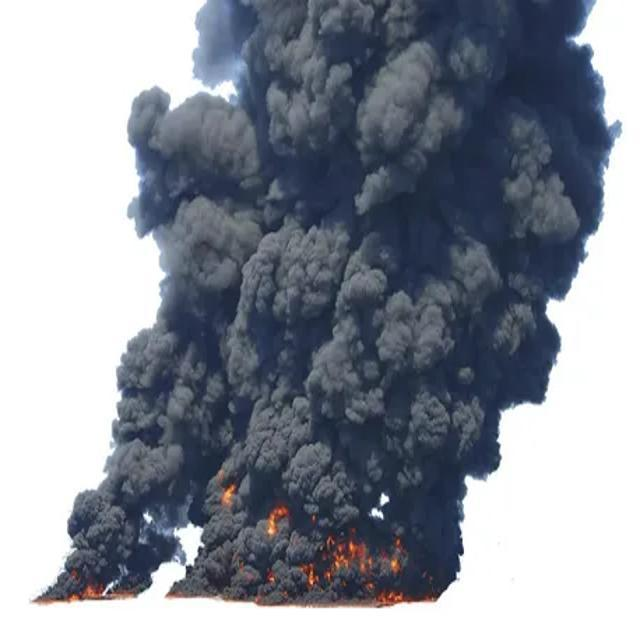Smoke: (32, 1, 624, 599)
